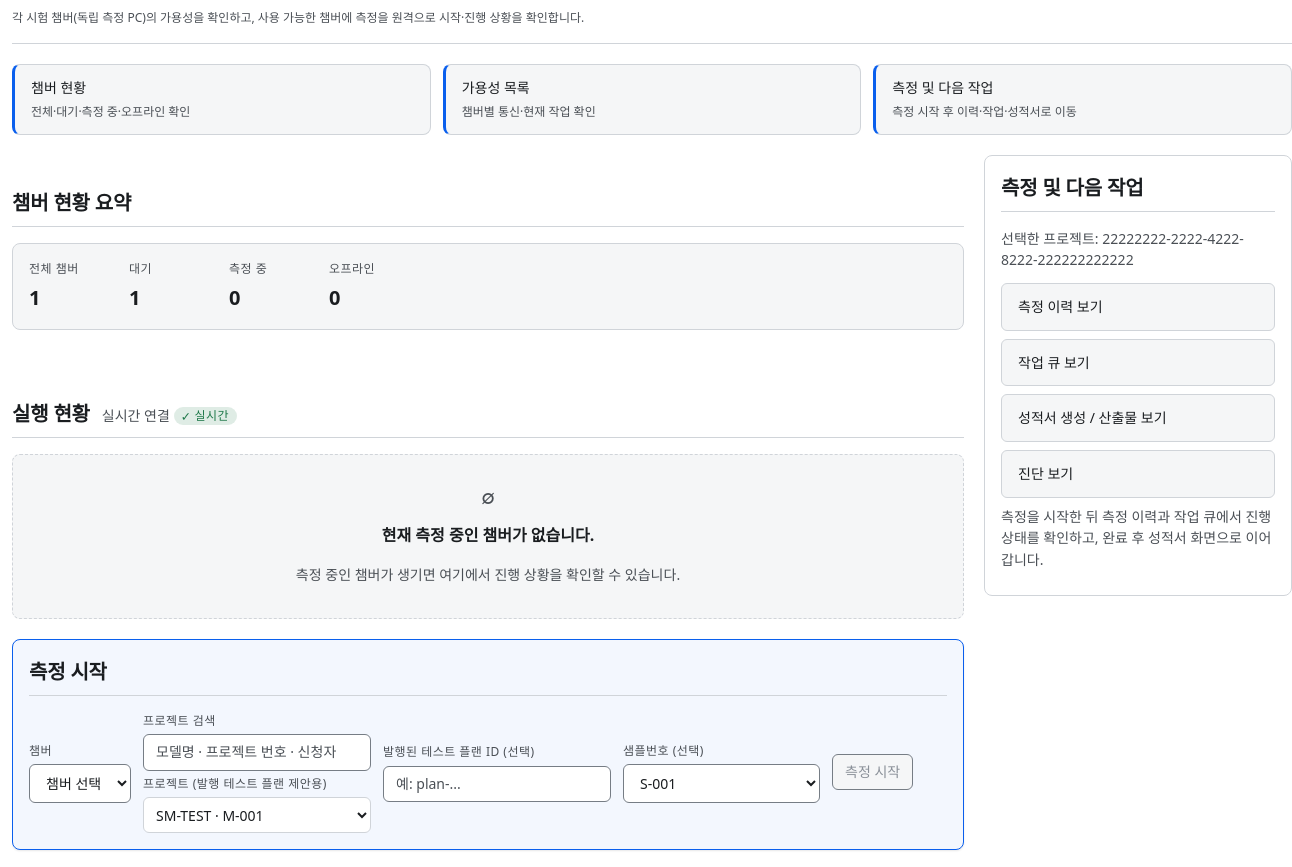
Test: chamber start failure recovery guidance › offers a permission-request hint with no self-service link on a 403
Expected: the form with test id "chambers-start-form" is shown, [29, 712, 947, 833]
Select "Free" in the dropdown with test id "chambers-start-select" at (80,784), box [29, 764, 131, 803]
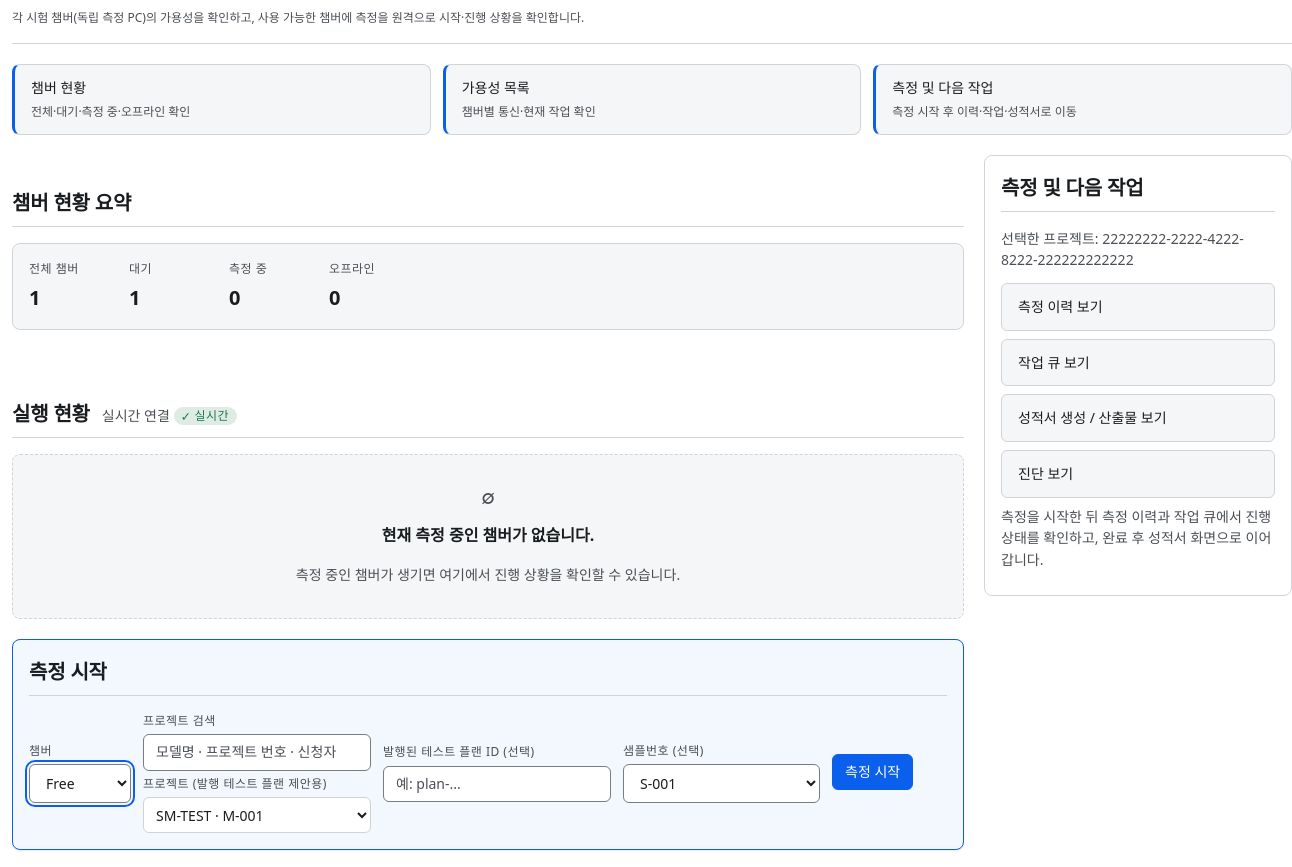
Click the button with test id "chambers-start-submit".
click(873, 772)  # box [832, 754, 913, 790]
(page scrolled)
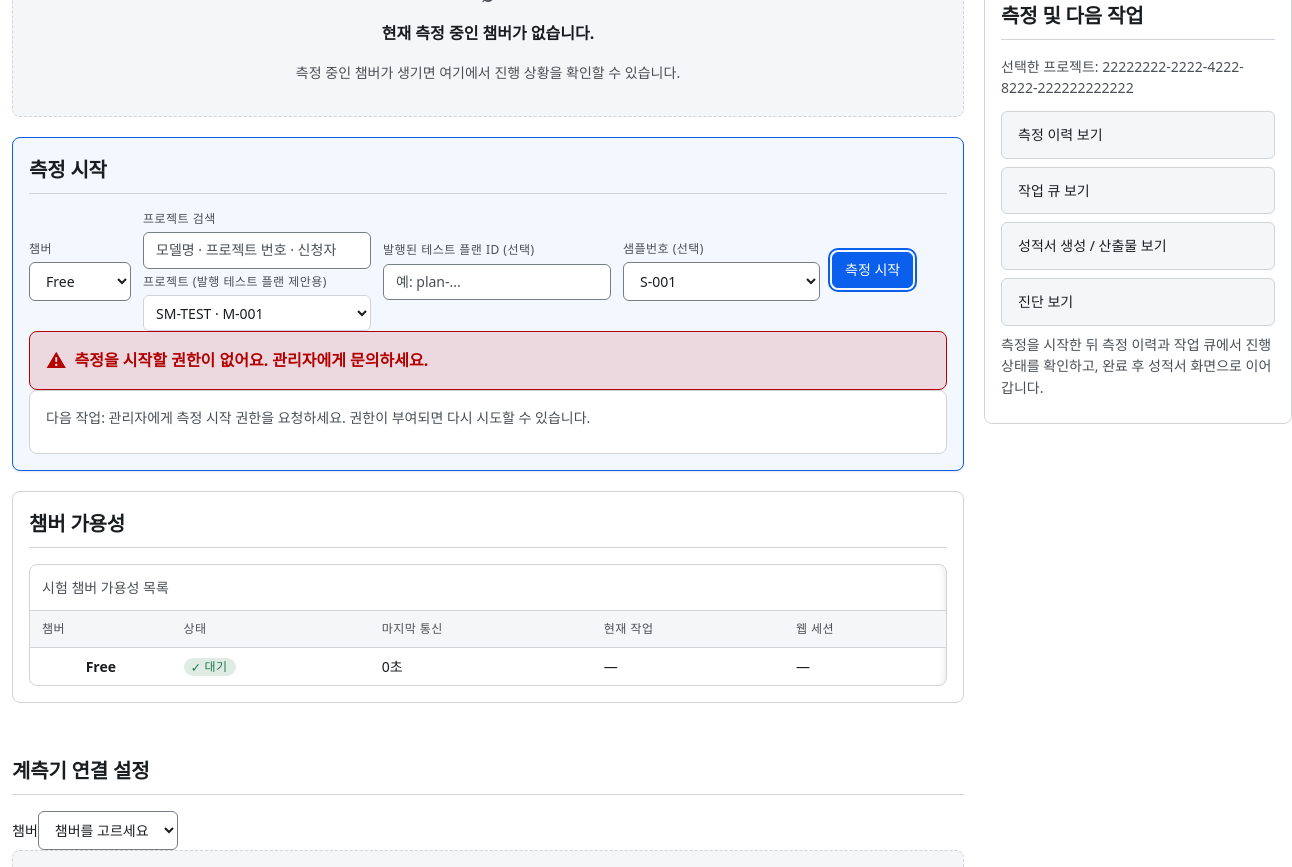
Now the message "측정을 시작할 권한이 없어요. 관리자에게 문의하세요." is shown, box [29, 331, 947, 390]
Now the text with test id "chambers-start-recovery-text" reads "다음 작업: 관리자에게 측정 시작 권한을 요청하세요. 권한이 부여되면 다시 시도할 수 있습니다.", box [46, 408, 590, 427]
